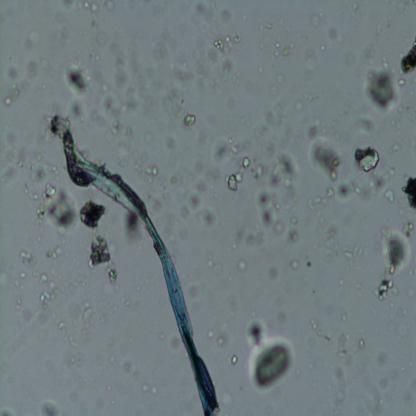Background material: (245, 318, 298, 394), (101, 49, 146, 122), (256, 153, 298, 230), (374, 224, 416, 300), (34, 184, 78, 235), (307, 124, 343, 180), (162, 68, 200, 115), (262, 96, 298, 144), (364, 67, 398, 114), (328, 222, 358, 270), (0, 131, 30, 176), (306, 183, 350, 212), (57, 316, 79, 373), (30, 147, 58, 187), (79, 197, 109, 233), (223, 155, 252, 191), (208, 126, 240, 156), (354, 140, 382, 174), (65, 60, 88, 99), (338, 333, 358, 376), (36, 271, 57, 309), (88, 235, 113, 266), (398, 37, 416, 78), (161, 124, 182, 155), (310, 208, 330, 240), (134, 152, 158, 178), (236, 224, 265, 245), (212, 34, 242, 54), (124, 213, 142, 243), (206, 327, 230, 349), (118, 358, 143, 379), (402, 174, 416, 210), (354, 113, 376, 134), (309, 312, 325, 340), (304, 48, 318, 79), (18, 246, 37, 268), (4, 83, 21, 107), (307, 8, 327, 28), (40, 396, 60, 415), (24, 27, 39, 52), (188, 190, 205, 212), (81, 300, 95, 326), (68, 100, 85, 121), (46, 243, 62, 265), (223, 59, 237, 84), (274, 40, 294, 57), (177, 199, 193, 220), (284, 225, 302, 243), (169, 332, 182, 354), (77, 0, 100, 12), (381, 186, 396, 204), (5, 62, 19, 81), (106, 119, 118, 141), (142, 382, 160, 396), (195, 0, 209, 18), (169, 171, 183, 189), (14, 272, 26, 292), (255, 20, 275, 32), (107, 266, 120, 284), (25, 63, 42, 76), (265, 269, 280, 283), (216, 7, 234, 18), (289, 258, 303, 272), (182, 114, 195, 128), (236, 257, 248, 272), (330, 31, 342, 45), (206, 212, 218, 226), (145, 130, 156, 144), (379, 350, 388, 367), (157, 330, 166, 344), (230, 353, 238, 367), (389, 147, 399, 158), (106, 1, 116, 12), (397, 79, 406, 89), (320, 42, 326, 54), (358, 342, 366, 350), (306, 261, 312, 269)
Cotton: (46, 114, 226, 415)
